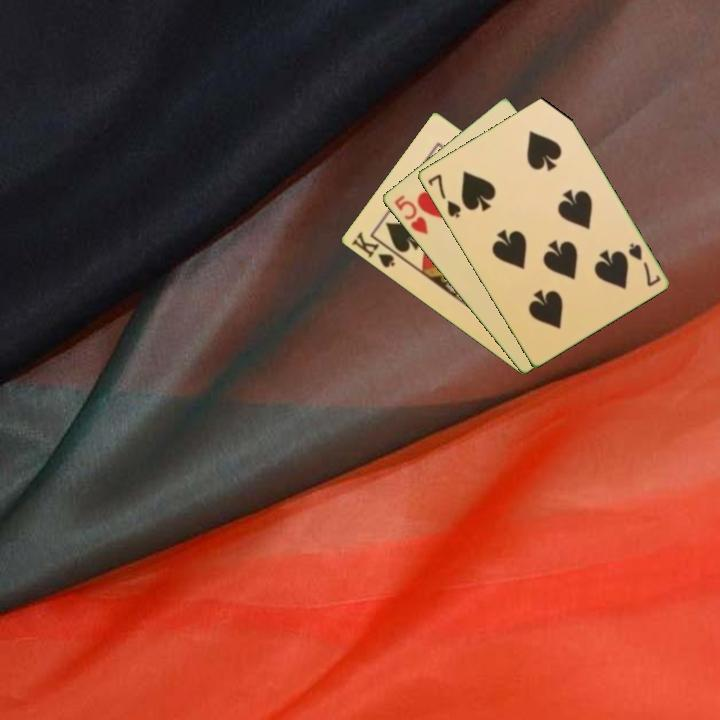5h: (390, 191, 431, 238)
7s: (424, 170, 464, 221), (624, 239, 663, 289)
Ks: (347, 228, 397, 271)
